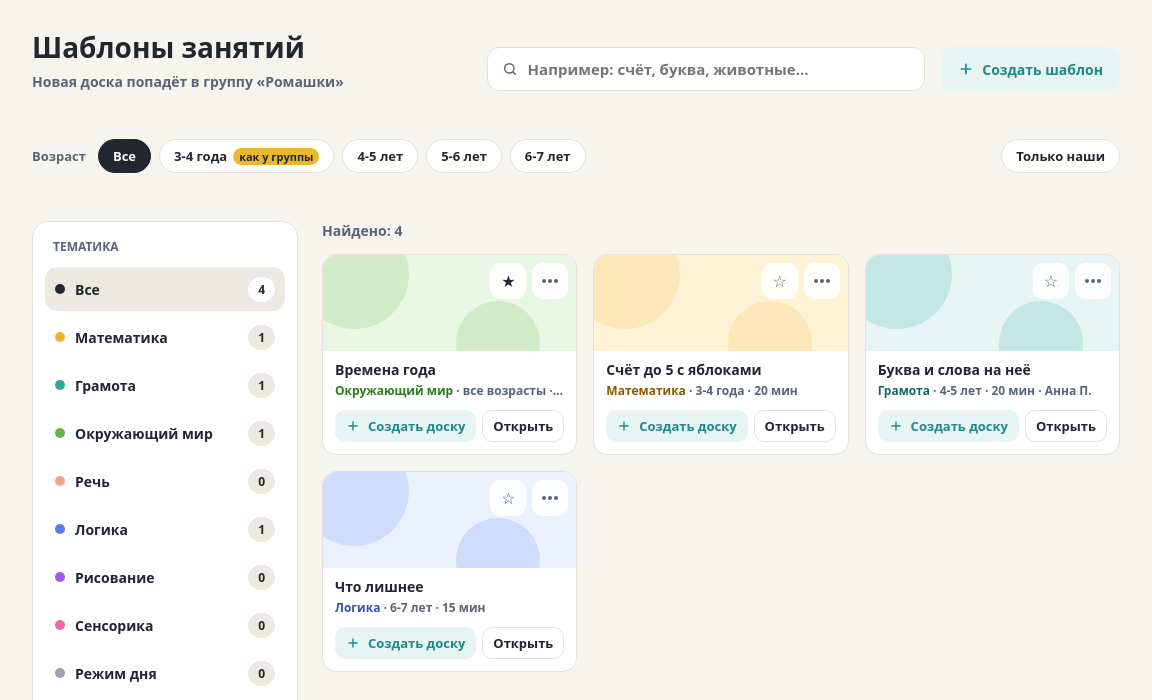
Test: TemplatesPage › «Только наши» прячет предустановленные, «Сбросить фильтры» возвращает
Click the button "Только наши".
click(1061, 156)  # box top-left (1001, 139), bottom-right (1120, 173)
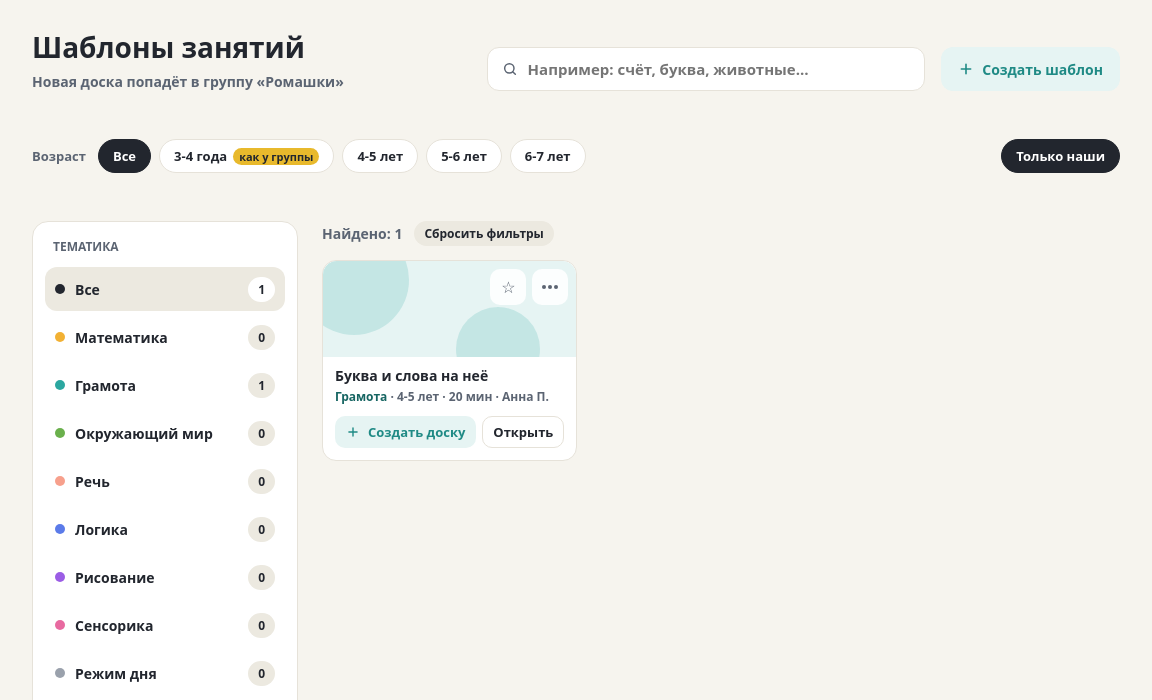
Expected: the heading "Буква и слова на неё" is shown, top-left (335, 366), bottom-right (488, 385)
Expected: the text "Найдено: 1" is shown, top-left (322, 224), bottom-right (402, 243)
Click the button "Сбросить фильтры".
click(484, 234)  # box top-left (414, 221), bottom-right (554, 246)
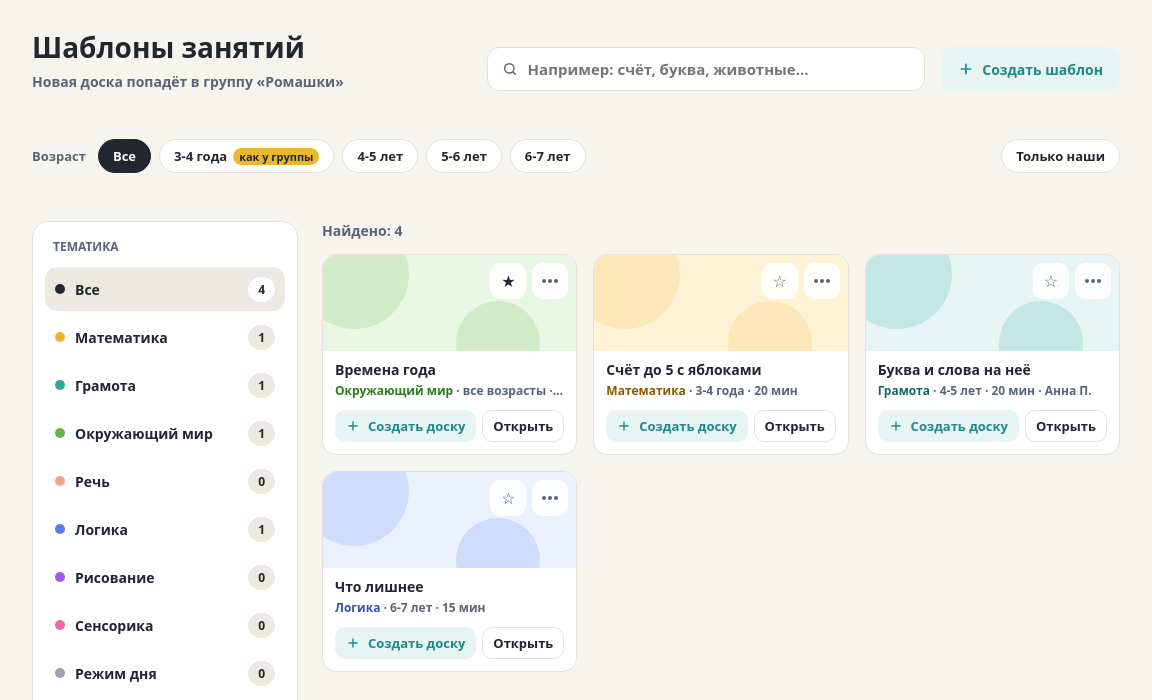
Expected: the text "Найдено: 4" is shown, top-left (322, 221), bottom-right (402, 240)
